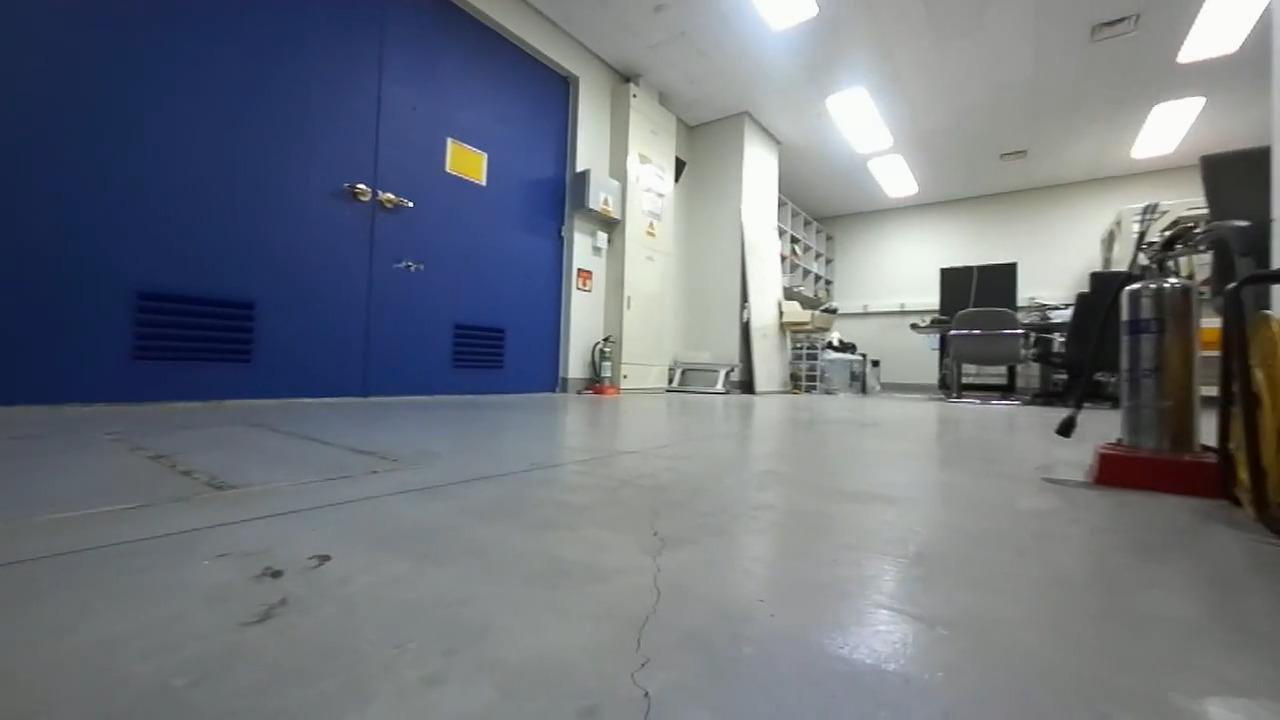crazyflie: (384, 255, 429, 276)
